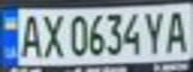0: (66, 11, 90, 57)
3: (103, 10, 127, 56)
4: (121, 9, 145, 56)
6: (87, 10, 109, 57)
A: (15, 11, 45, 60), (163, 7, 193, 55)
X: (39, 10, 66, 58)
Y: (142, 8, 169, 55)
